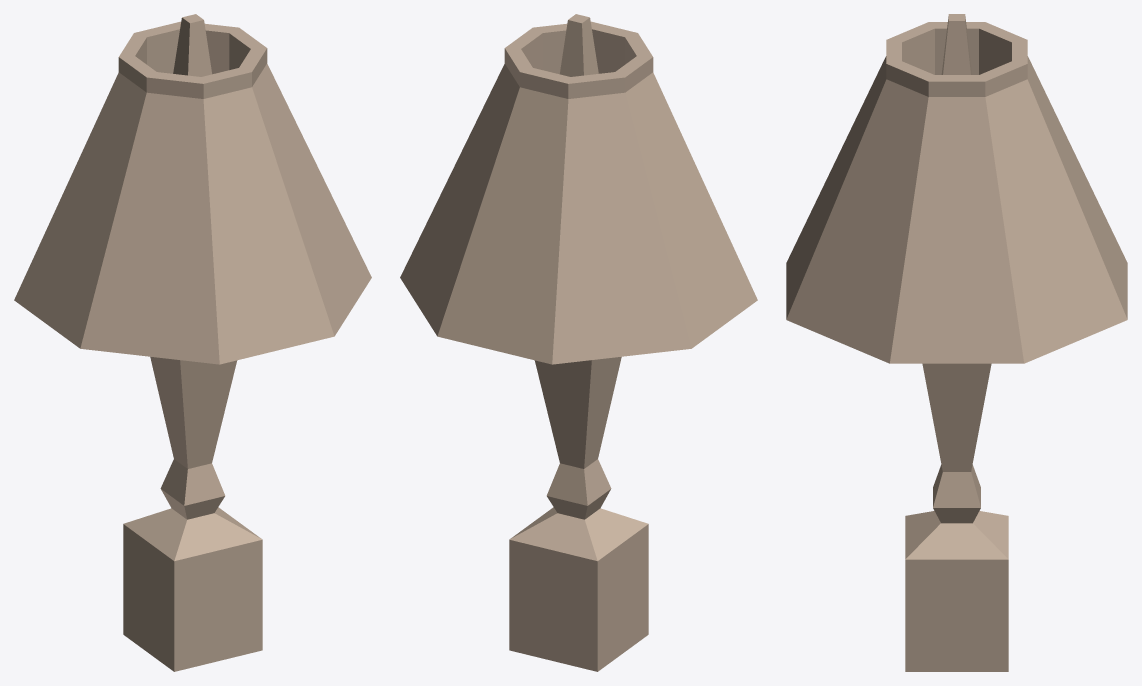
The model's file is F_bossromm_lamp.fbx.
3 views of the same model, side by side, from view 1: azimuth 30°, elevation 25°; view 2: azimuth 150°, elevation 25°; view 3: azimuth 270°, elevation 25° (orthographic).
Parts seen in each view (by area): view 1: boss_lamp; view 2: boss_lamp; view 3: boss_lamp.
Part boxes in pixels (x1,y1,x2,y2): boss_lamp: [14, 14, 371, 671]; boss_lamp: [400, 14, 757, 671]; boss_lamp: [786, 14, 1127, 671].
Bounding box in the file's own units: 24.1 × 49.25 × 24.1.
